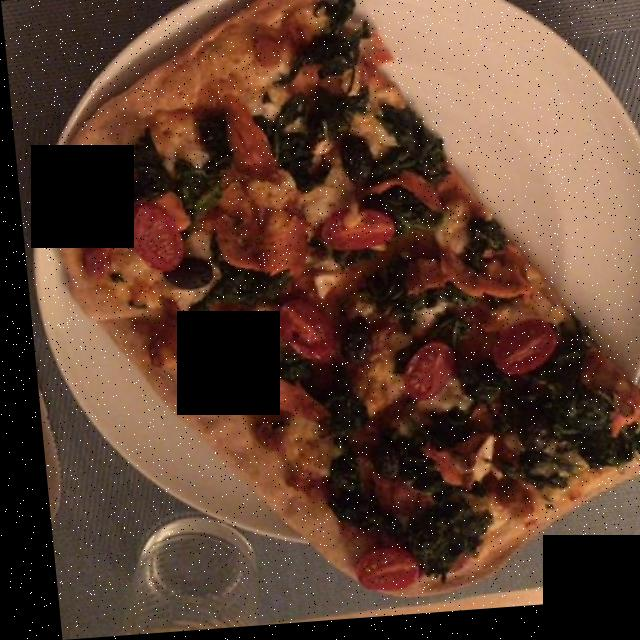black-olives: (159, 144, 624, 483)
pizza-with-vegetables-baked: (62, 0, 640, 587)
